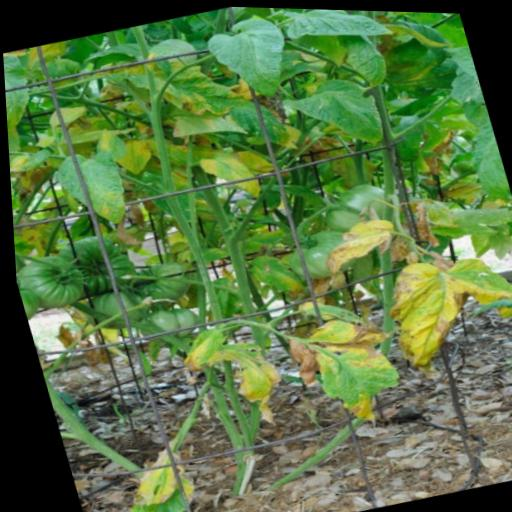Early Blight: (372, 235, 512, 364), (156, 315, 290, 436), (278, 307, 404, 433), (288, 16, 390, 99), (48, 142, 128, 233), (304, 208, 399, 284), (103, 442, 197, 512), (193, 145, 260, 205), (2, 49, 41, 142), (244, 245, 302, 305), (107, 130, 157, 177)
Healthy: (203, 11, 297, 109), (291, 65, 385, 152), (281, 7, 387, 48)
